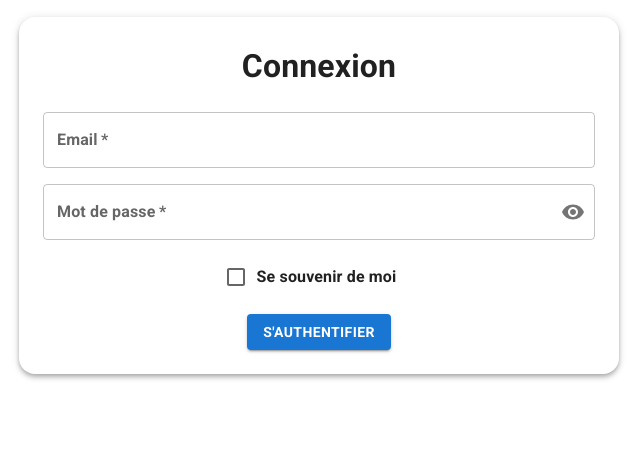
Test: LoginPage › shows ban message when loginUser throws a 403 error
Step 1. Type "test@user.com" into the field labelled "Email *" → x=319, y=140, box [43,112,595,168]
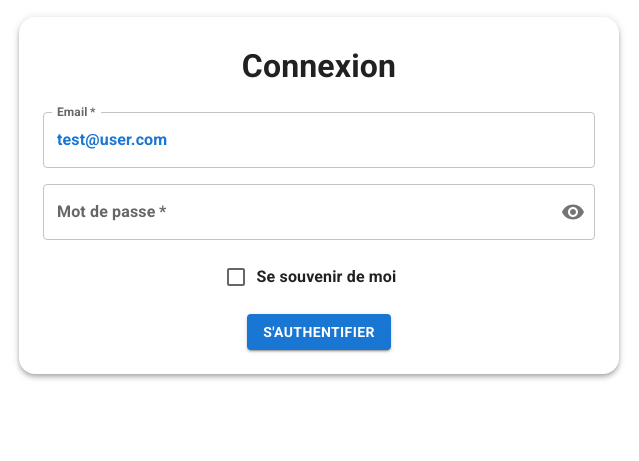
Step 2. Type "password" into the password field labelled "Mot de passe *" → x=294, y=212, box [43,184,545,240]
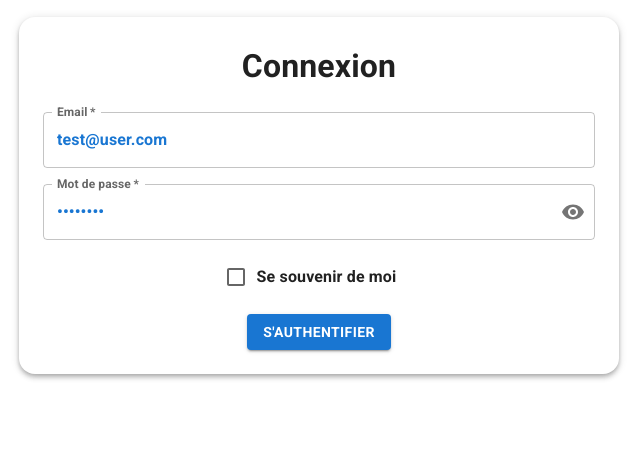
Step 3. Click the button "S'authentifier" → x=319, y=332, box [247,314,391,350]
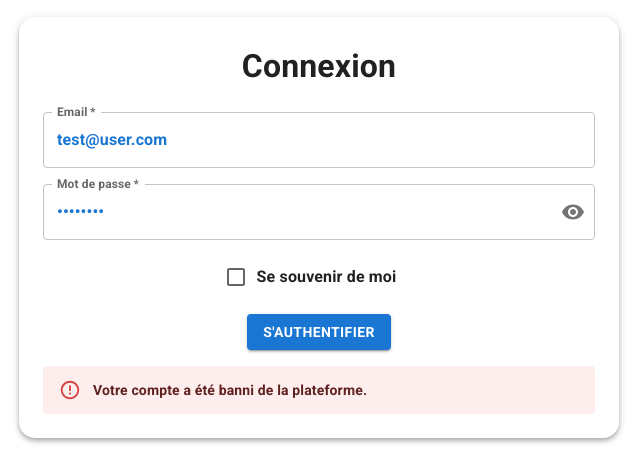
Now the text "Votre compte a été banni de la plateforme." is shown, box [93,382,367,398]
